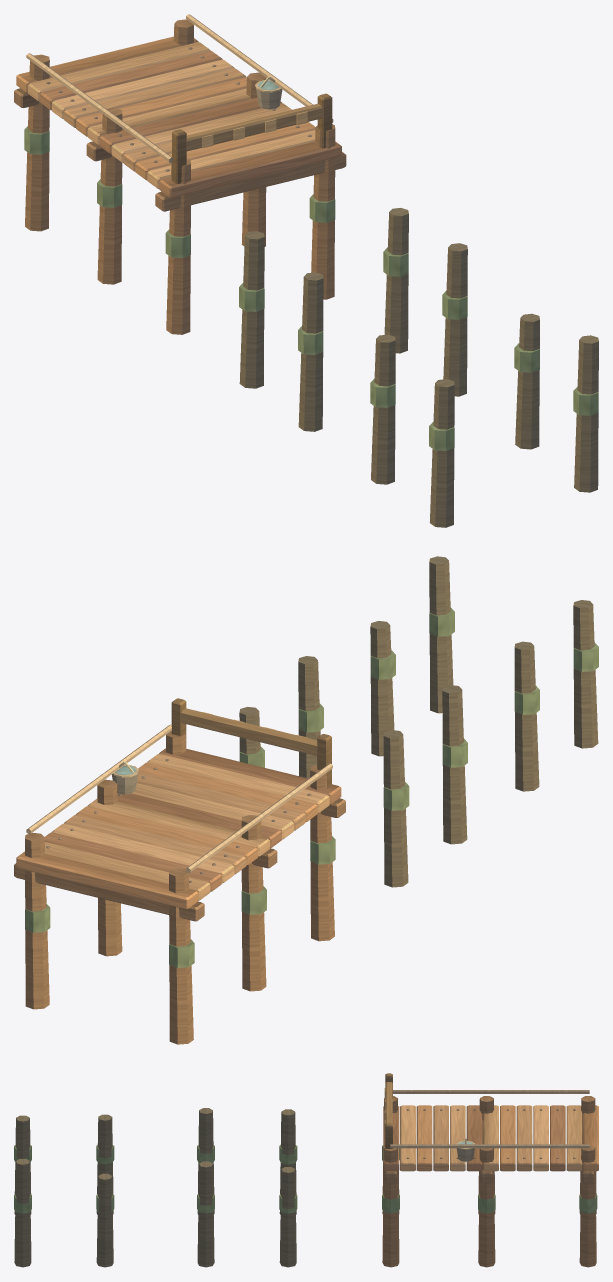
Rendered from pier_landing.glb.
3 renders of one model, top to bottom at view 1: azimuth 30°, elevation 25°; view 2: azimuth 150°, elevation 25°; view 3: azimuth 270°, elevation 25°, orthographic. The views are drawn at different scales.
Parts seen in each view (by area): view 1: Fischersteg · landing; view 2: Fischersteg · landing; view 3: Fischersteg · landing.
Boxes of the visible parts, x1,y1,x2,y2 form: Fischersteg · landing: [14, 14, 598, 527]; Fischersteg · landing: [14, 556, 598, 1044]; Fischersteg · landing: [14, 1073, 598, 1267].
Size of the model in its own units: 2.4 by 2.49 by 9.46.
2 materials, 2 textured.
